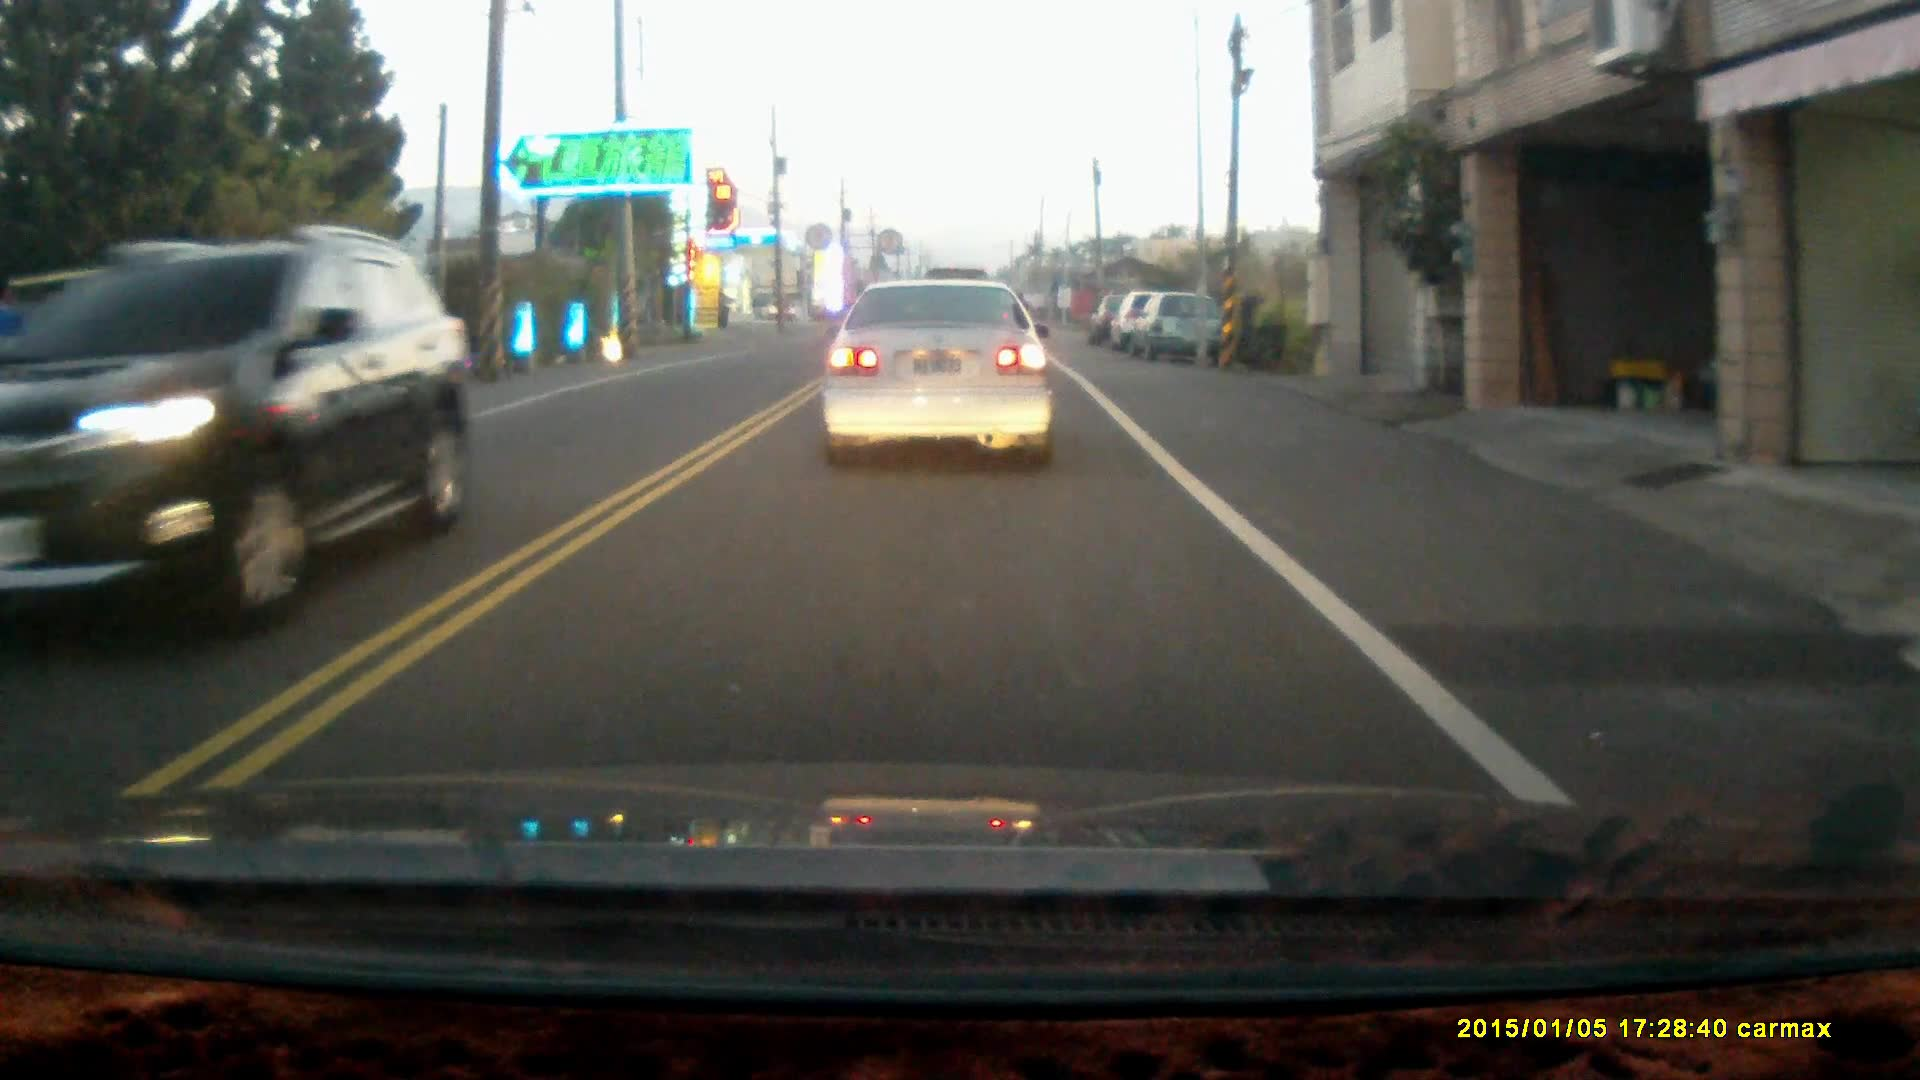vehicle: (1, 227, 483, 632), (819, 280, 1054, 469), (1127, 293, 1222, 365), (1116, 293, 1195, 349)
